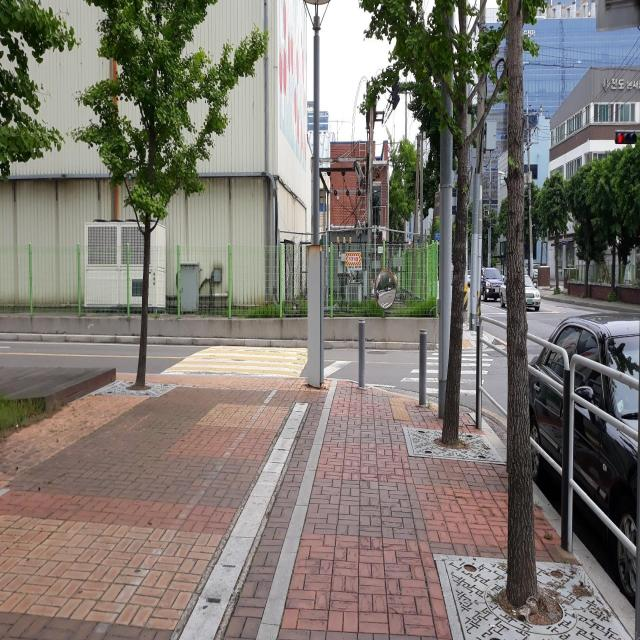횡단보도: (400, 352, 494, 396)
